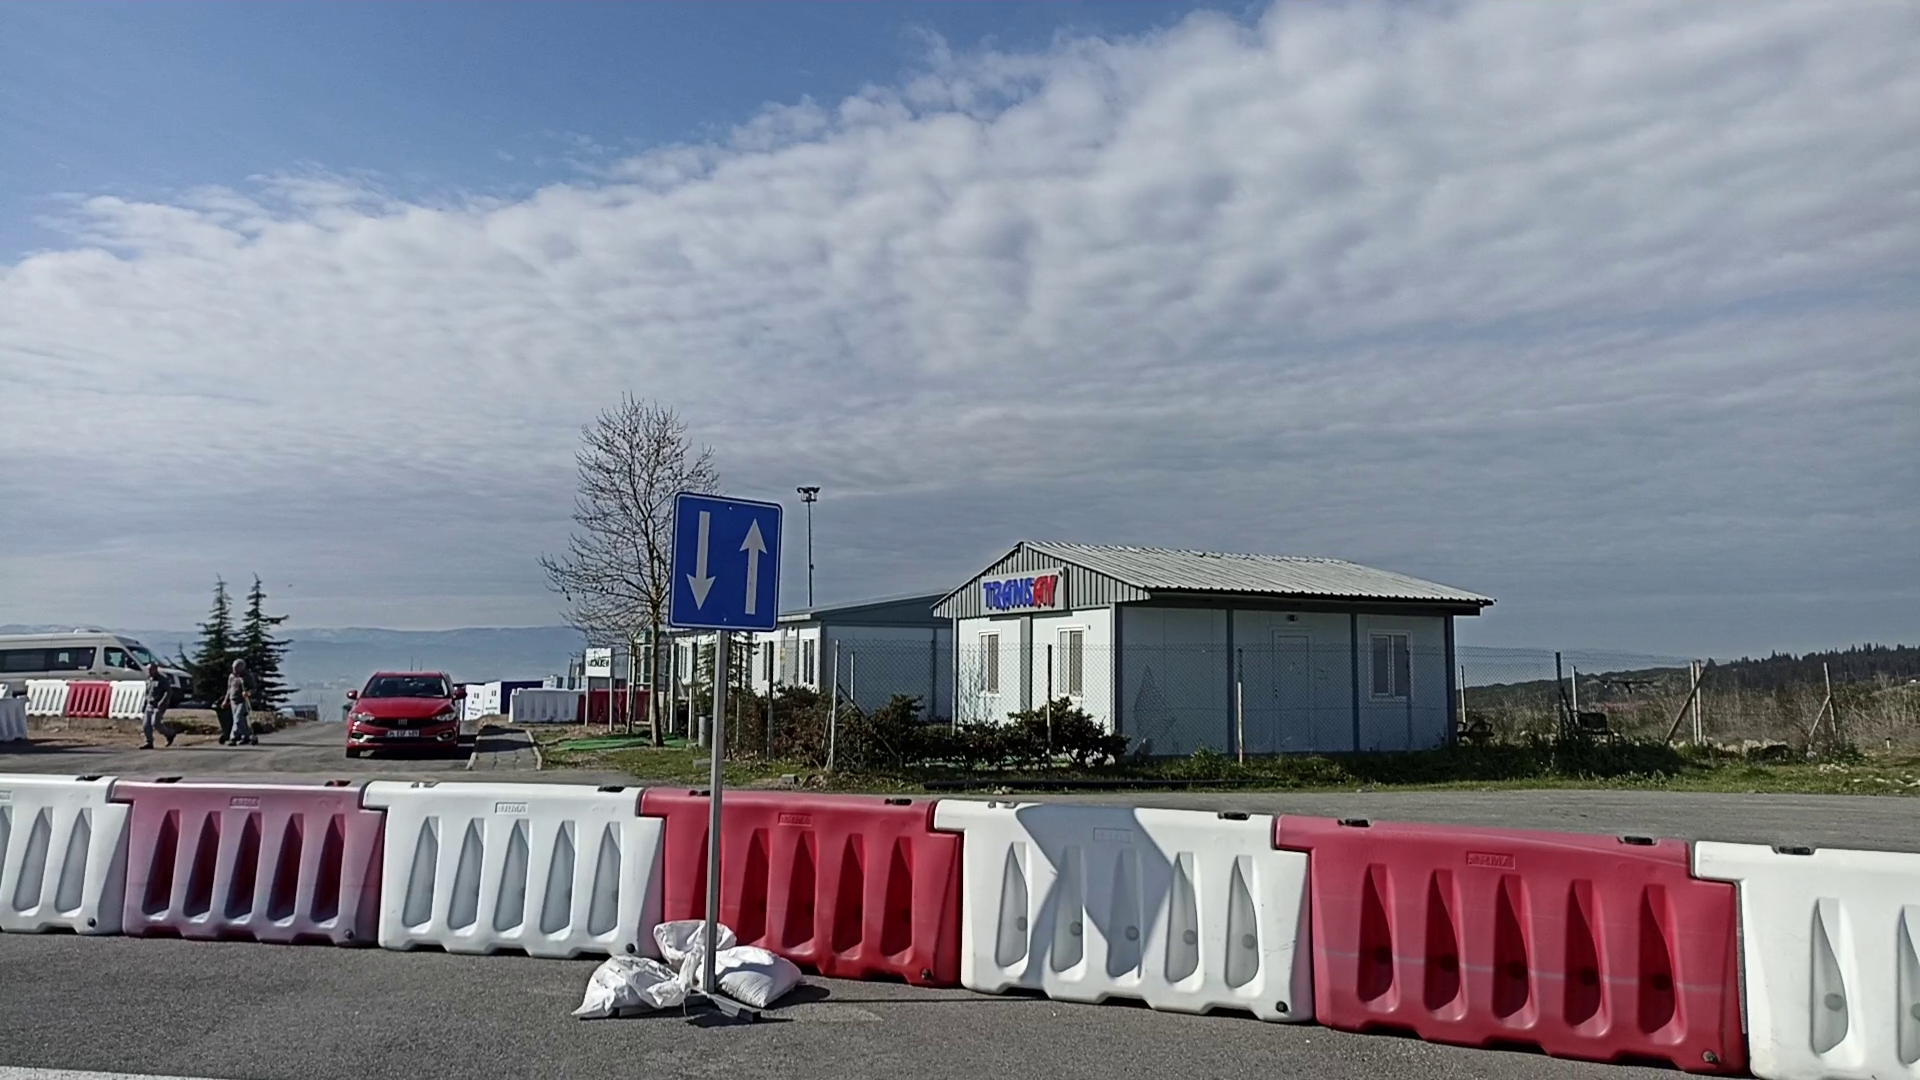oneway: (667, 489, 785, 634)
